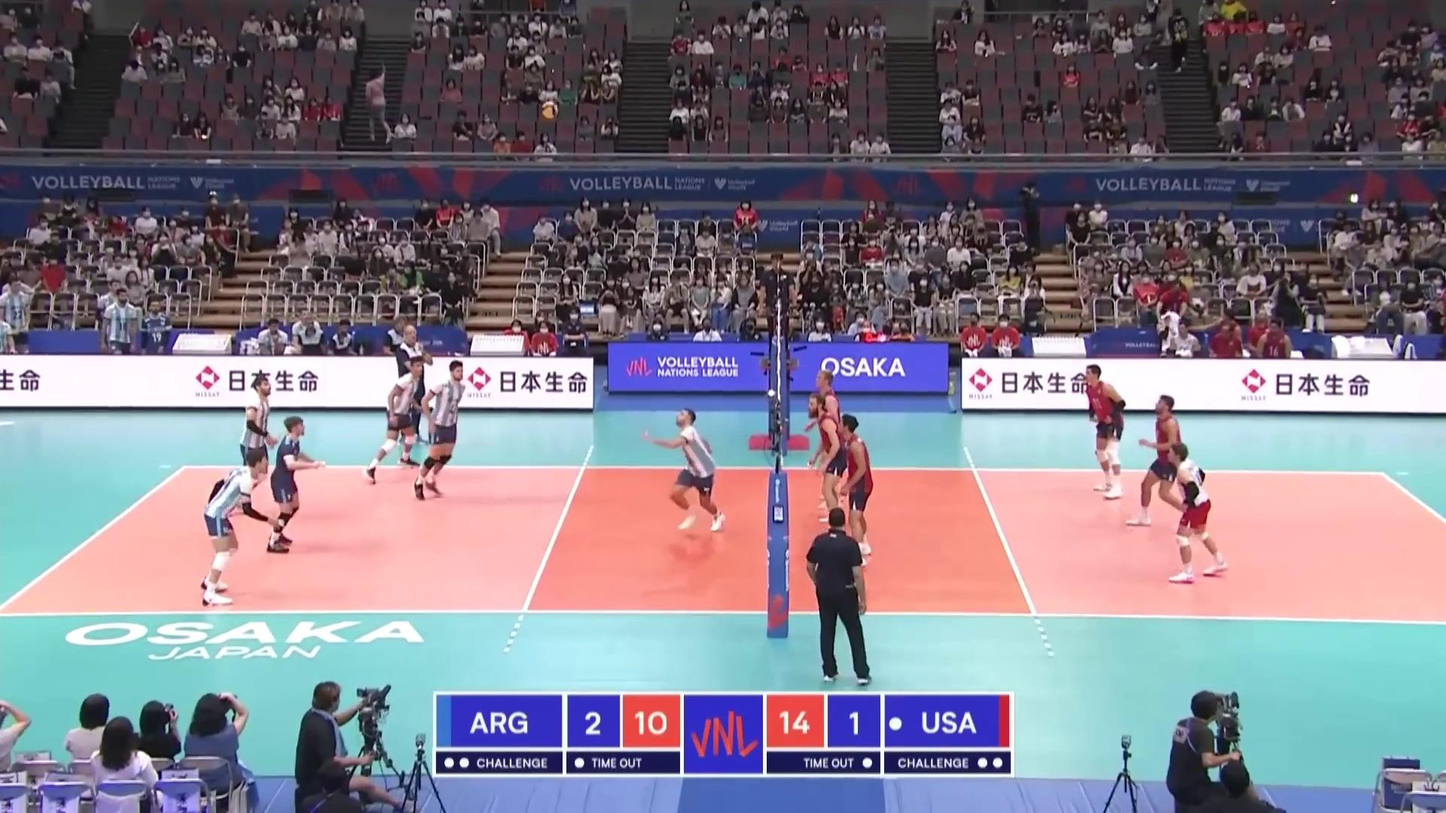player: (639, 408, 726, 530), (202, 449, 267, 606), (1166, 443, 1236, 582), (1129, 396, 1190, 526), (266, 418, 321, 552), (365, 359, 423, 485), (414, 361, 464, 504), (1082, 363, 1129, 500), (807, 398, 849, 532), (237, 374, 277, 511), (837, 414, 873, 565), (811, 370, 845, 500)
refree: (805, 512, 873, 684), (761, 252, 796, 358)
